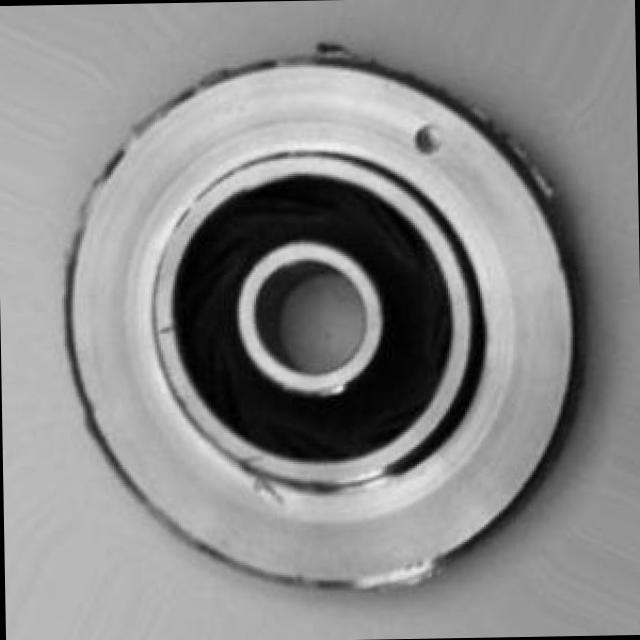Defect: (506, 128, 547, 178), (409, 118, 448, 165)
